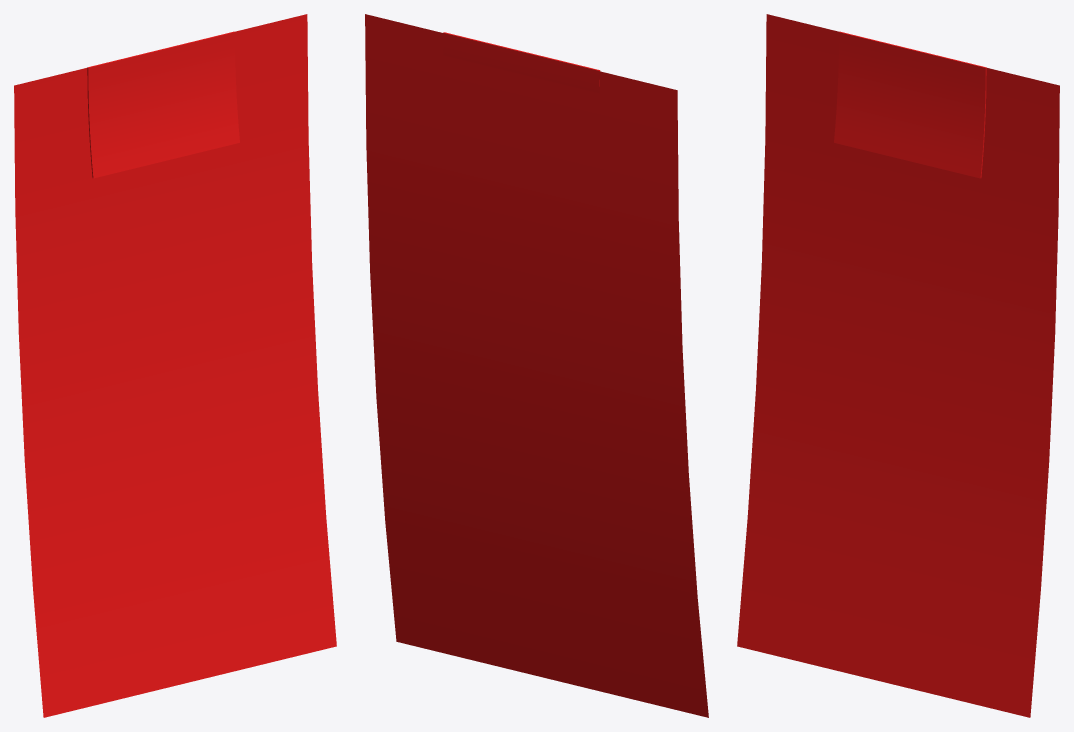
File: SM_Paper.fbx
3 views of the same model, side by side, from view 1: azimuth 30°, elevation 25°; view 2: azimuth 150°, elevation 25°; view 3: azimuth 330°, elevation 25° (orthographic). The views are drawn at different scales.
Parts seen in each view (by area): view 1: Paper_Note_lp, Paper_PostIt_lp; view 2: Paper_Note_lp, Paper_PostIt_lp; view 3: Paper_Note_lp, Paper_PostIt_lp.
Boxes of the visible parts, x1=… form: Paper_Note_lp: x1=14, y1=14, x2=336, y2=717; Paper_PostIt_lp: x1=87, y1=31, x2=239, y2=178; Paper_Note_lp: x1=365, y1=14, x2=708, y2=717; Paper_PostIt_lp: x1=443, y1=32, x2=600, y2=93; Paper_Note_lp: x1=737, y1=14, x2=1059, y2=717; Paper_PostIt_lp: x1=834, y1=31, x2=986, y2=178.
Size of the model in its own units: 2 by 3.98 by 0.3485.
